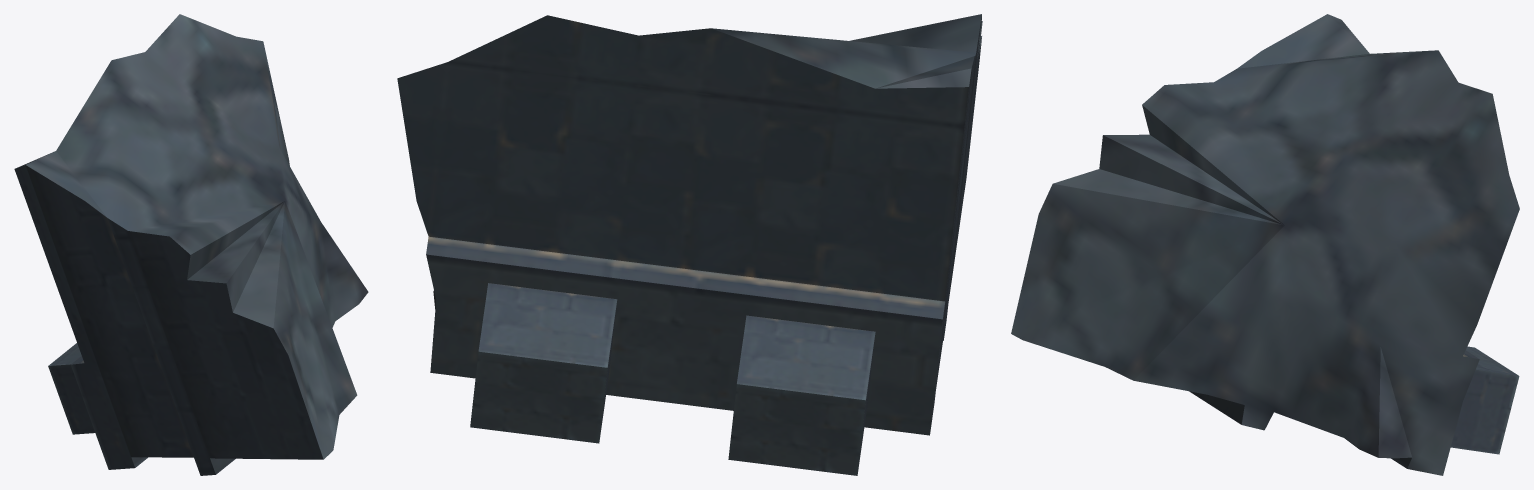
The model's file is Area_05_14.fbx.
The picture shows the model from 3 angles, left to right: view 1: azimuth 30°, elevation 25°; view 2: azimuth 150°, elevation 25°; view 3: azimuth 270°, elevation 25°; orthographic projection. The views are drawn at different scales.
Parts seen in each view (by area): view 1: Area_05_14; view 2: Area_05_14; view 3: Area_05_14.
Boxes of the visible parts, bbox=[...] form: Area_05_14: bbox=[14, 14, 368, 475]; Area_05_14: bbox=[397, 14, 982, 475]; Area_05_14: bbox=[1011, 14, 1519, 475].
Size of the model in its own units: 1025 by 891 by 1131.
